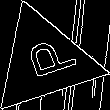P_W: (13, 36, 75, 87)
